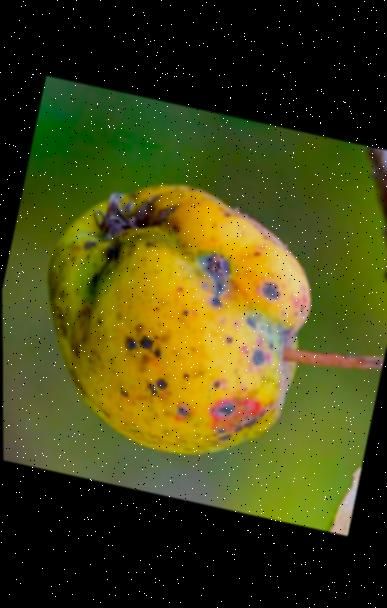SCAB: (1, 148, 360, 505)
